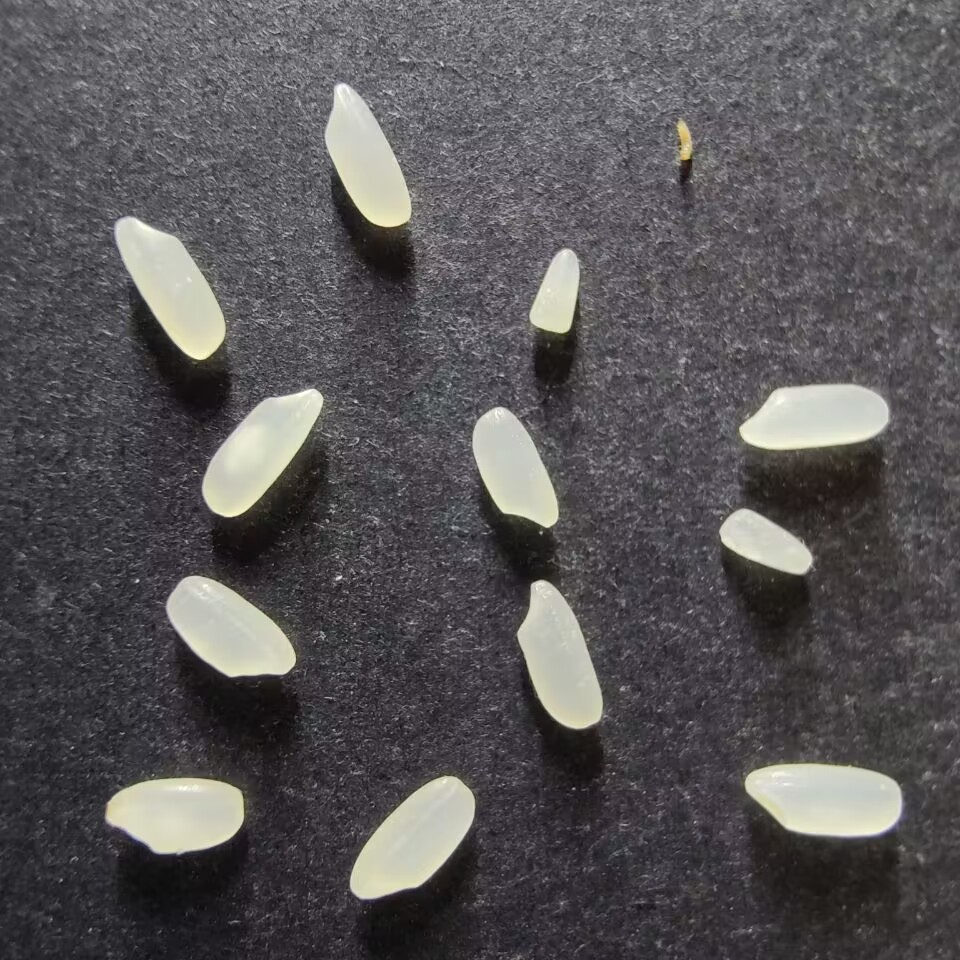broken: (718, 507, 812, 574), (529, 247, 580, 333)
others: (673, 117, 697, 164)
rice: (113, 216, 226, 361), (349, 774, 476, 901), (200, 387, 323, 518), (164, 575, 296, 678), (515, 579, 603, 729), (323, 83, 412, 227), (742, 763, 902, 836), (105, 777, 244, 856), (470, 406, 559, 528), (738, 384, 889, 450)
